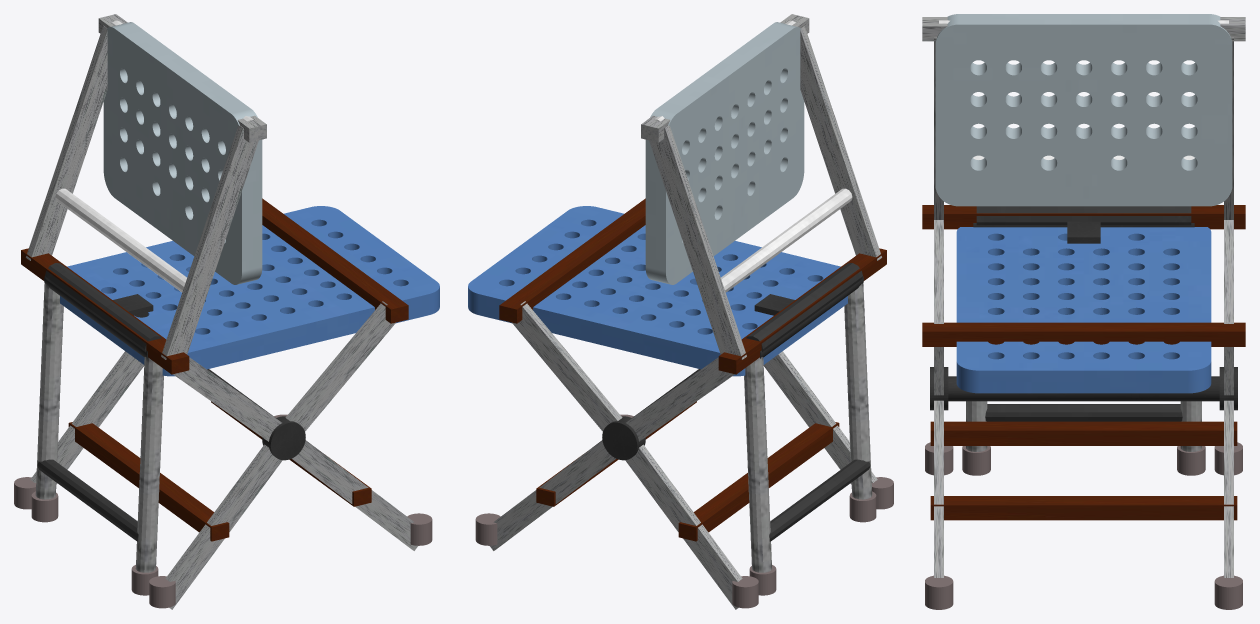
The model's file is Chair_Folding_chair__0039.glb.
3 views of the same model, side by side, from view 1: azimuth 30°, elevation 25°; view 2: azimuth 150°, elevation 25°; view 3: azimuth 270°, elevation 25° (orthographic). The views are drawn at different scales.
Visible parts, largest first — view 1: seat_pan::seat_pad, rear_leg_frame::backrest_pad, rear_leg_frame::rear_upright_l_seg2, rear_leg_frame::rear_upright_r_seg2, rear_under_frame::rear_under_leg_0, rear_under_frame::rear_under_leg_1, rear_leg_frame::rear_upright_l_seg0, front_leg_frame::seat_front_rail, rear_leg_frame::rear_cross_brace, front_leg_frame::front_leg_l_seg1, front_leg_frame::front_leg_l_seg0, rear_leg_frame::rear_upright_r_seg0 (+14 smaller); view 2: seat_pan::seat_pad, rear_leg_frame::backrest_pad, rear_leg_frame::rear_upright_r_seg2, rear_leg_frame::rear_upright_l_seg2, rear_under_frame::rear_under_leg_1, rear_under_frame::rear_under_leg_0, rear_leg_frame::rear_upright_r_seg0, front_leg_frame::seat_front_rail, rear_leg_frame::rear_cross_brace, front_leg_frame::front_leg_r_seg1, front_leg_frame::front_leg_r_seg0, rear_leg_frame::rear_upright_l_seg0 (+13 smaller); view 3: rear_leg_frame::backrest_pad, seat_pan::seat_pad, front_leg_frame::front_cross_brace, rear_leg_frame::rear_cross_brace, front_leg_frame::seat_front_rail, rear_under_frame::rear_under_hinge, rear_under_frame::rear_under_brace, rear_leg_frame::scissor_bolt, rear_leg_frame::seat_hinge_bar, front_leg_frame::front_leg_l_seg0, front_leg_frame::front_leg_r_seg0, rear_leg_frame::rear_upright_l_seg1 (+18 smaller).
Part boxes in pixels (left/top/right/bottom): seat_pan::seat_pad: left=60, top=206, right=439, bottom=376; rear_leg_frame::backrest_pad: left=103, top=22, right=262, bottom=284; rear_leg_frame::rear_upright_l_seg2: left=161, top=125, right=258, bottom=359; rear_leg_frame::rear_upright_r_seg2: left=26, top=25, right=107, bottom=260; rear_under_frame::rear_under_leg_0: left=135, top=357, right=163, bottom=572; rear_under_frame::rear_under_leg_1: left=35, top=283, right=63, bottom=499; rear_leg_frame::rear_upright_l_seg0: left=165, top=444, right=282, bottom=609; front_leg_frame::seat_front_rail: left=262, top=198, right=408, bottom=323; rear_leg_frame::rear_cross_brace: left=68, top=422, right=229, bottom=541; front_leg_frame::front_leg_l_seg1: left=285, top=301, right=395, bottom=431; front_leg_frame::front_leg_l_seg0: left=292, top=440, right=417, bottom=550; rear_leg_frame::rear_upright_r_seg0: left=30, top=351, right=144, bottom=484; seat_pan::seat_pad: left=468, top=206, right=847, bottom=376; rear_leg_frame::backrest_pad: left=645, top=22, right=804, bottom=284; rear_leg_frame::rear_upright_r_seg2: left=649, top=125, right=746, bottom=359; rear_leg_frame::rear_upright_l_seg2: left=800, top=25, right=881, bottom=260; rear_under_frame::rear_under_leg_1: left=744, top=357, right=772, bottom=572; rear_under_frame::rear_under_leg_0: left=844, top=283, right=872, bottom=499; rear_leg_frame::rear_upright_r_seg0: left=625, top=444, right=742, bottom=609; front_leg_frame::seat_front_rail: left=499, top=198, right=645, bottom=323; rear_leg_frame::rear_cross_brace: left=678, top=422, right=839, bottom=541; front_leg_frame::front_leg_r_seg1: left=512, top=301, right=622, bottom=431; front_leg_frame::front_leg_r_seg0: left=490, top=440, right=615, bottom=550; rear_leg_frame::rear_upright_l_seg0: left=763, top=351, right=877, bottom=484; rear_leg_frame::backrest_pad: left=935, top=14, right=1232, bottom=206; seat_pan::seat_pad: left=956, top=227, right=1211, bottom=393; front_leg_frame::front_cross_brace: left=930, top=496, right=1237, bottom=520; rear_leg_frame::rear_cross_brace: left=930, top=421, right=1237, bottom=445; front_leg_frame::seat_front_rail: left=922, top=322, right=1245, bottom=346; rear_under_frame::rear_under_hinge: left=976, top=206, right=1191, bottom=225; rear_under_frame::rear_under_brace: left=985, top=404, right=1182, bottom=421; rear_leg_frame::scissor_bolt: left=948, top=376, right=1219, bottom=401; rear_leg_frame::seat_hinge_bar: left=922, top=205, right=1245, bottom=229; front_leg_frame::front_leg_l_seg0: left=934, top=400, right=943, bottom=577; front_leg_frame::front_leg_r_seg0: left=1224, top=400, right=1233, bottom=577; rear_leg_frame::rear_upright_l_seg1: left=934, top=220, right=943, bottom=322.
Bounding box in the file's own units: 0.452 × 0.6666 × 0.3869.
Materials: 7 (6 with a texture image).
